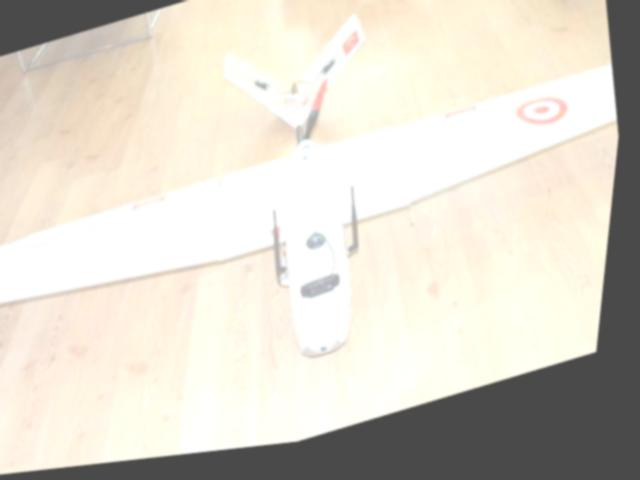iha: (0, 0, 640, 455)
